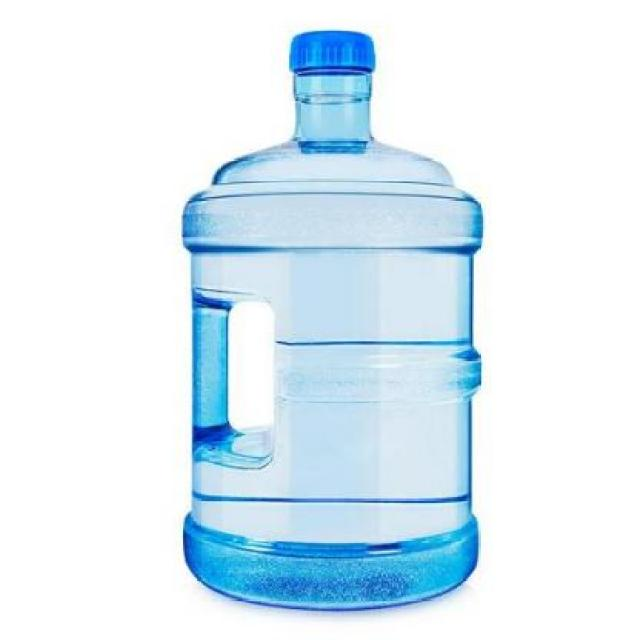coolerbottle: (177, 26, 487, 617)
